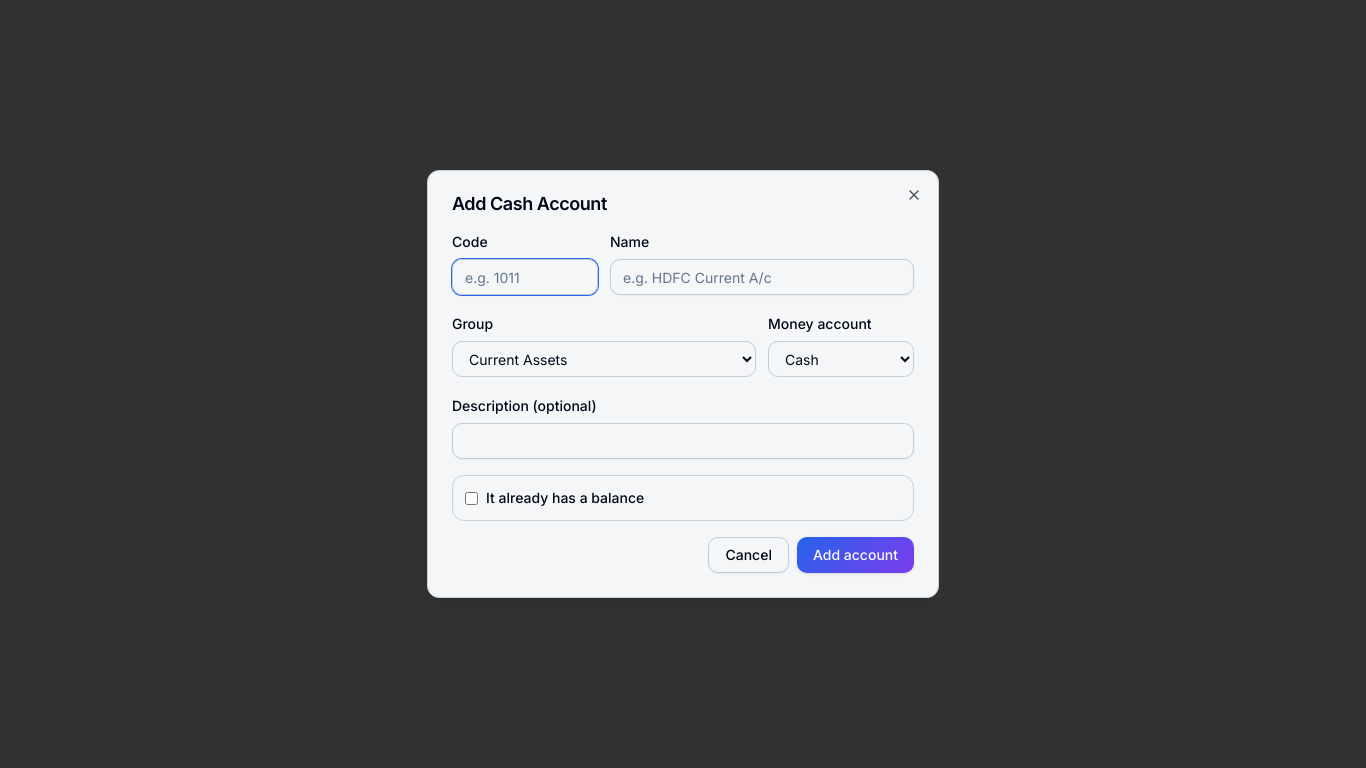
Scenario: AccountFormDialog › drops a money kind the new group cannot hold
The width and height of the screenshot is (1366, 768).
Select "Current Liabilities" in the dropdown labelled "Group" at (604, 359), box 452,341 -> 756,377
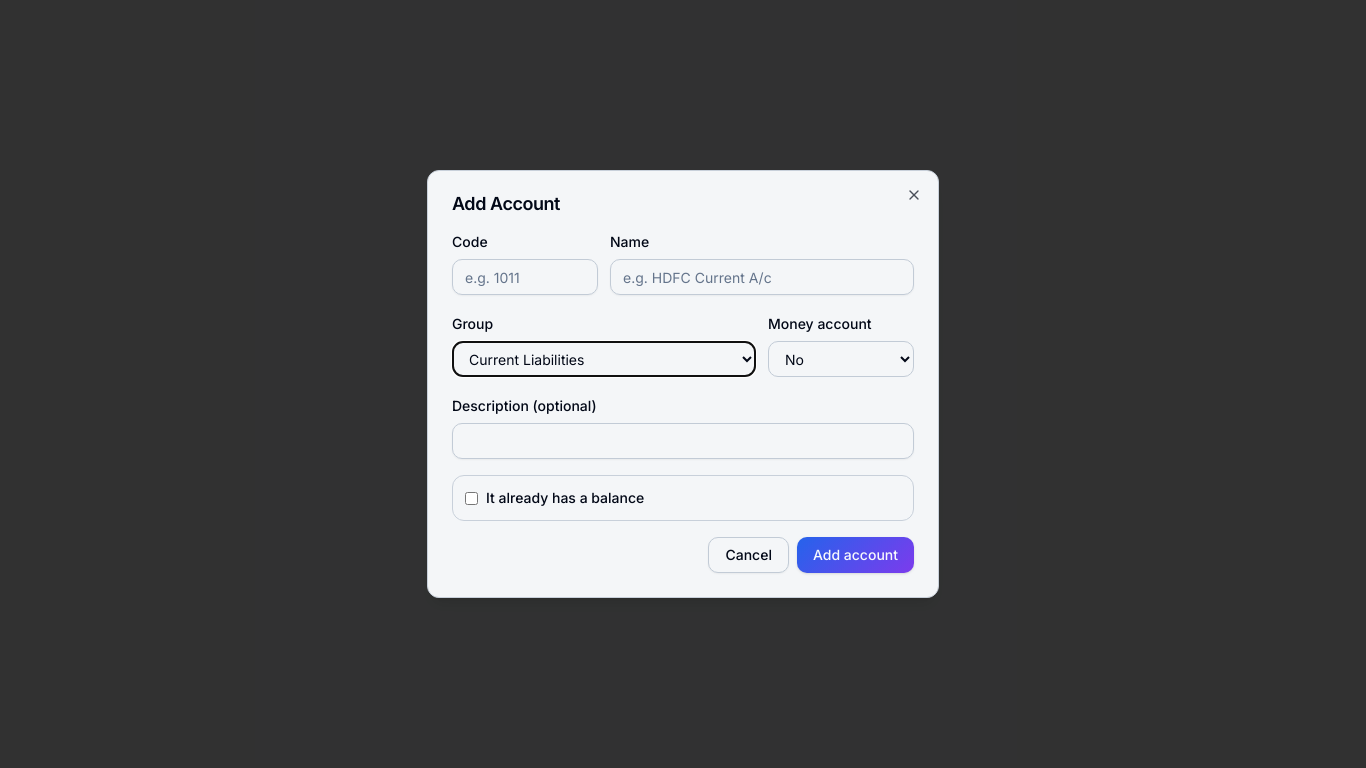
Check: the dropdown labelled "Money account" shows "No", box 768,341 -> 914,377
